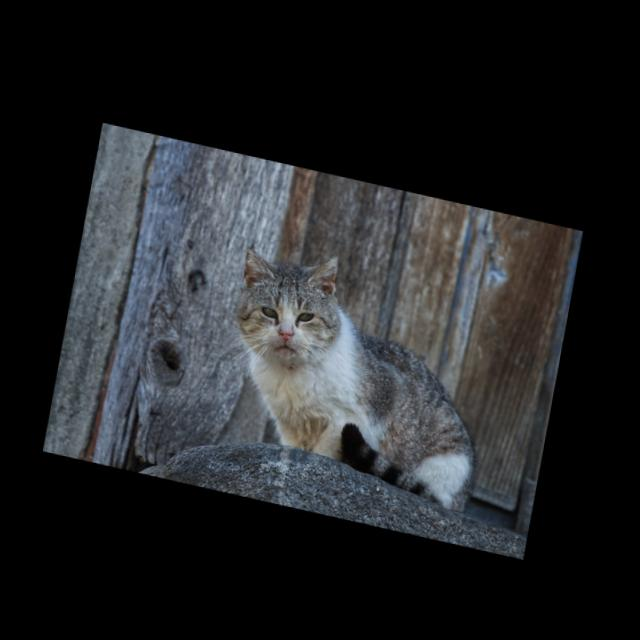animals: (212, 231, 509, 510)
